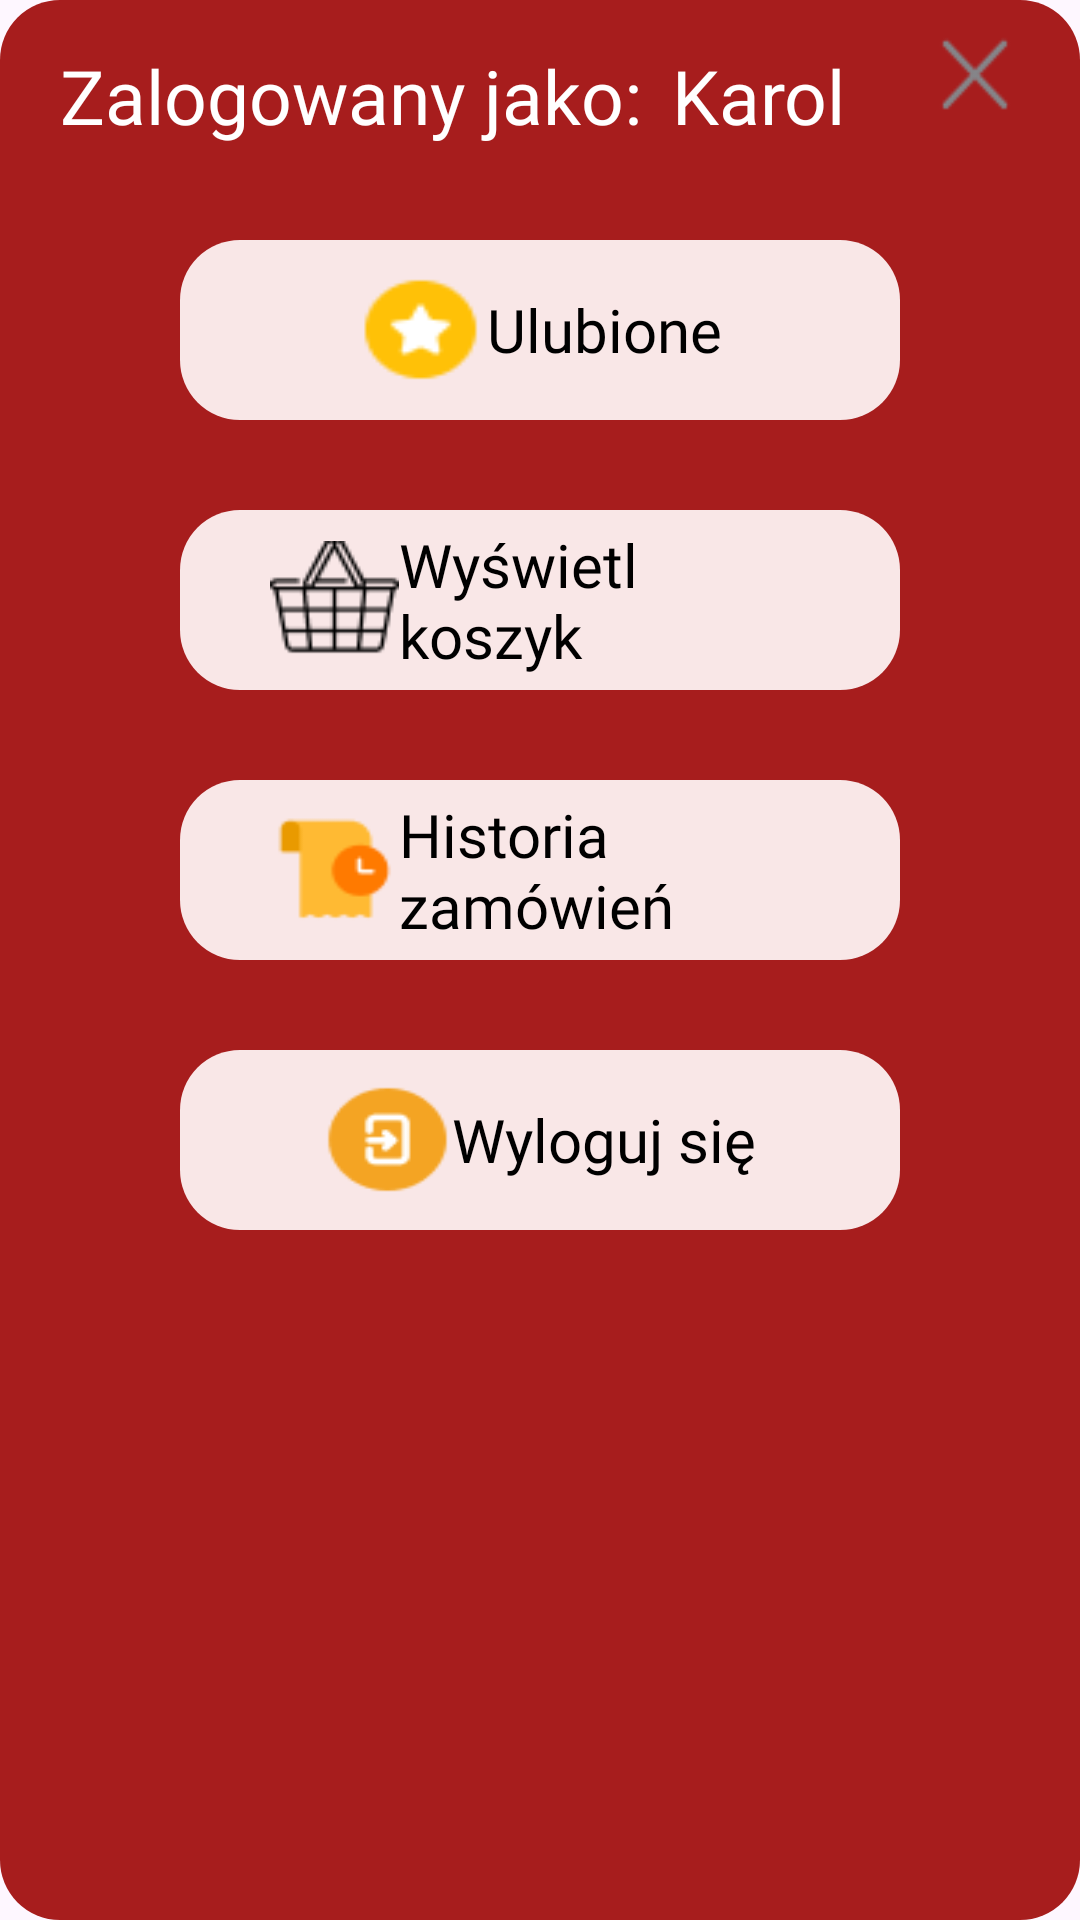

Locate icon controls on the screen. Image size 1080px×1920px, boxes as bbox=(x1, y1, x2, y2).
bucket photo: bbox=(270, 541, 399, 653)
close photo: bbox=(942, 40, 1008, 109)
favorite photo: bbox=(364, 279, 477, 380)
history photo: bbox=(278, 819, 391, 918)
